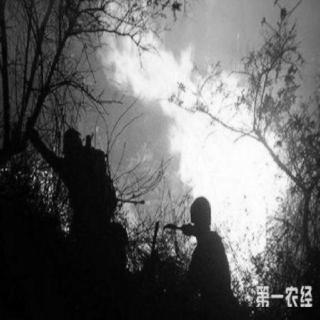Fire: (91, 1, 305, 297)
